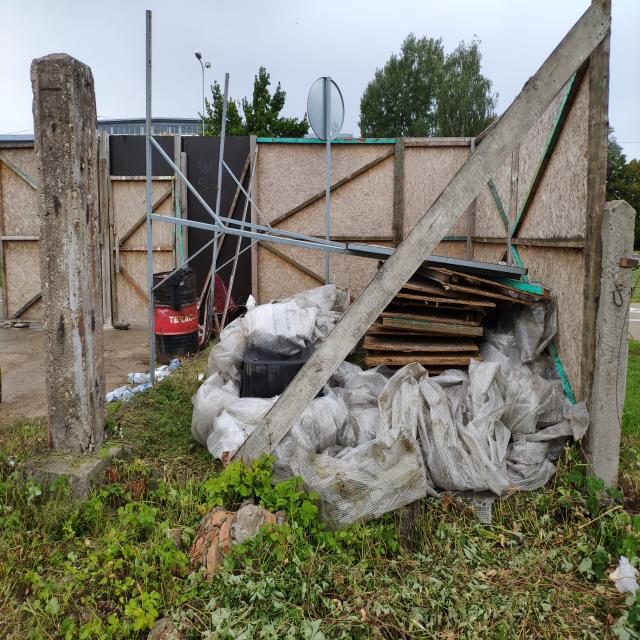entulho: (420, 358, 587, 495), (298, 358, 436, 513), (207, 283, 340, 379), (188, 376, 286, 450), (422, 254, 540, 310), (148, 270, 204, 366), (482, 300, 556, 365), (368, 326, 484, 367), (391, 280, 497, 320), (384, 306, 484, 346)
lixo domiciliar: (154, 365, 171, 379), (169, 356, 181, 370)
